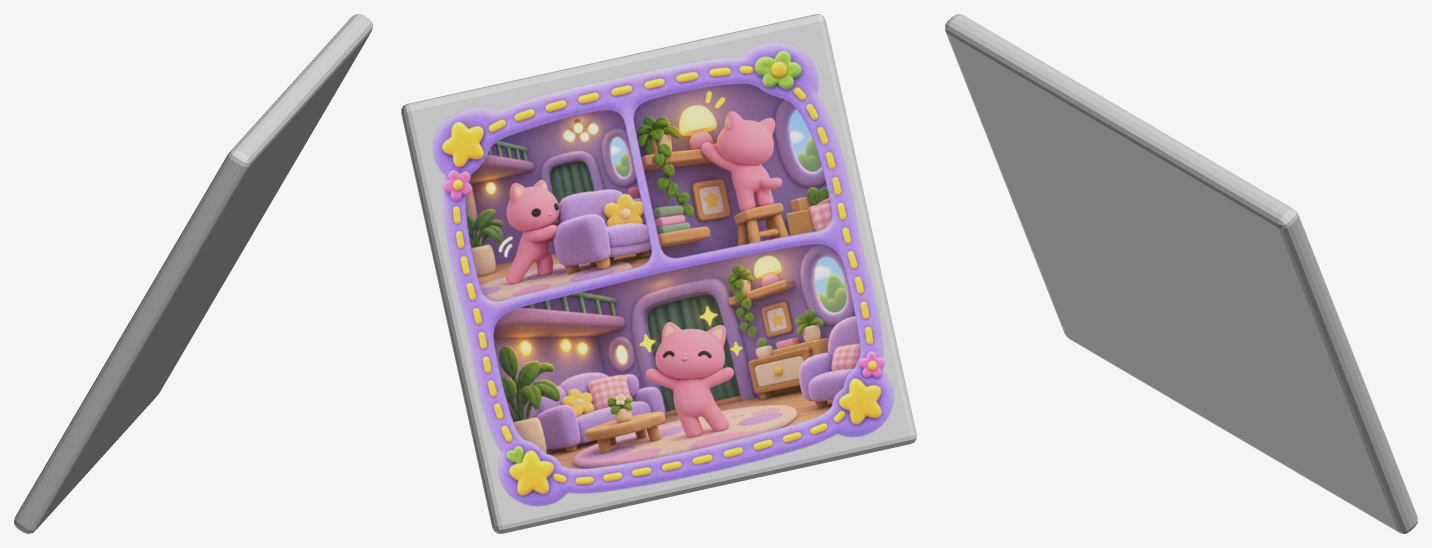
File: memory_3.glb
3 renders of one model, left to right at view 1: azimuth 30°, elevation 25°; view 2: azimuth 150°, elevation 25°; view 3: azimuth 270°, elevation 25°, orthographic. The views are drawn at different scales.
Parts seen in each view (by area): view 1: memory_3_page; view 2: memory_3_page; view 3: memory_3_page.
Boxes of the visible parts, x1=… form: memory_3_page: x1=14, y1=14, x2=372, y2=533; memory_3_page: x1=401, y1=14, x2=916, y2=533; memory_3_page: x1=945, y1=14, x2=1417, y2=533.
Size of what is drawn, in the model's own units: 0.8858 by 0.8076 by 0.7643.
2 materials, 1 textured.
